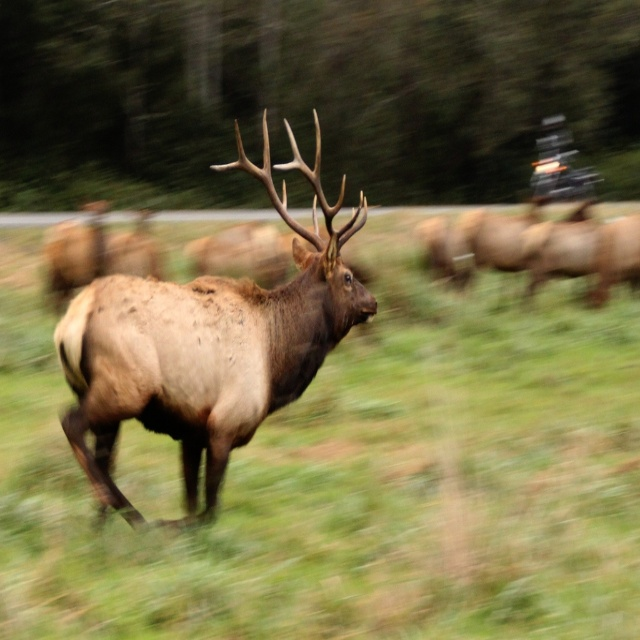Deer: (54, 103, 378, 526)
